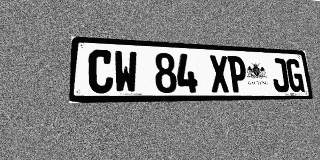4: (176, 53, 198, 93)
8: (154, 52, 177, 93)
C: (88, 49, 113, 93)
G: (285, 59, 305, 92)
J: (270, 58, 290, 92)
P: (227, 56, 248, 92)
W: (114, 50, 138, 93)
X: (209, 55, 230, 93)
